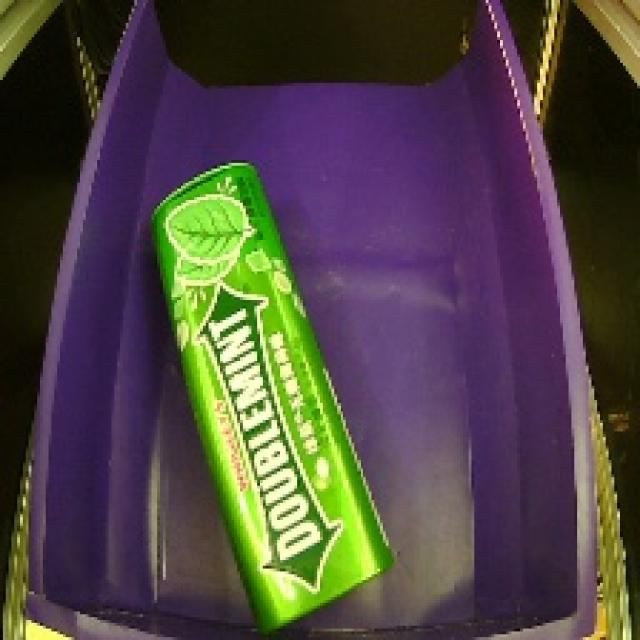metal: (140, 150, 414, 639)
